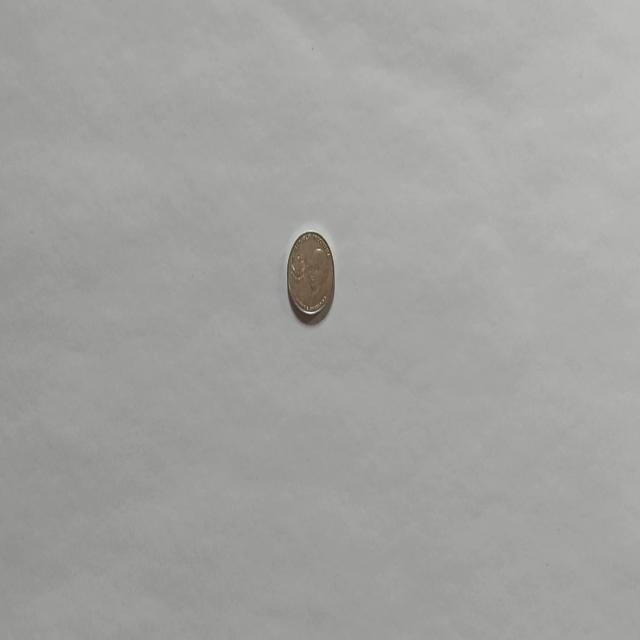lima ratus rupiah: (285, 228, 335, 324)
